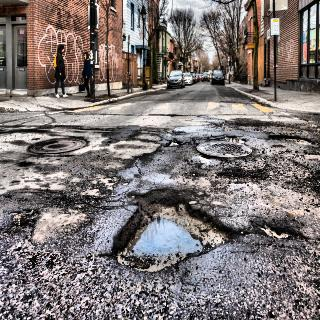pothole: (108, 189, 244, 288)
